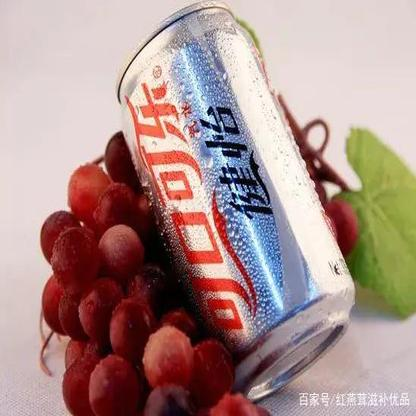can: (116, 2, 356, 399)
